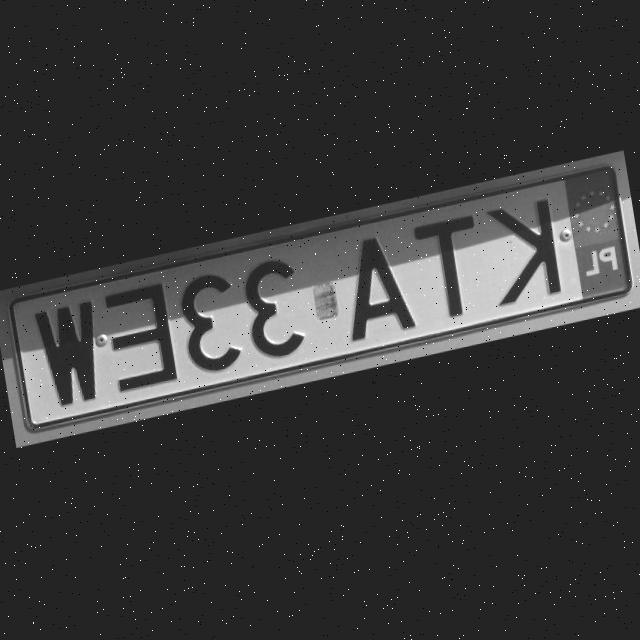license-plates: (9, 167, 632, 430)
